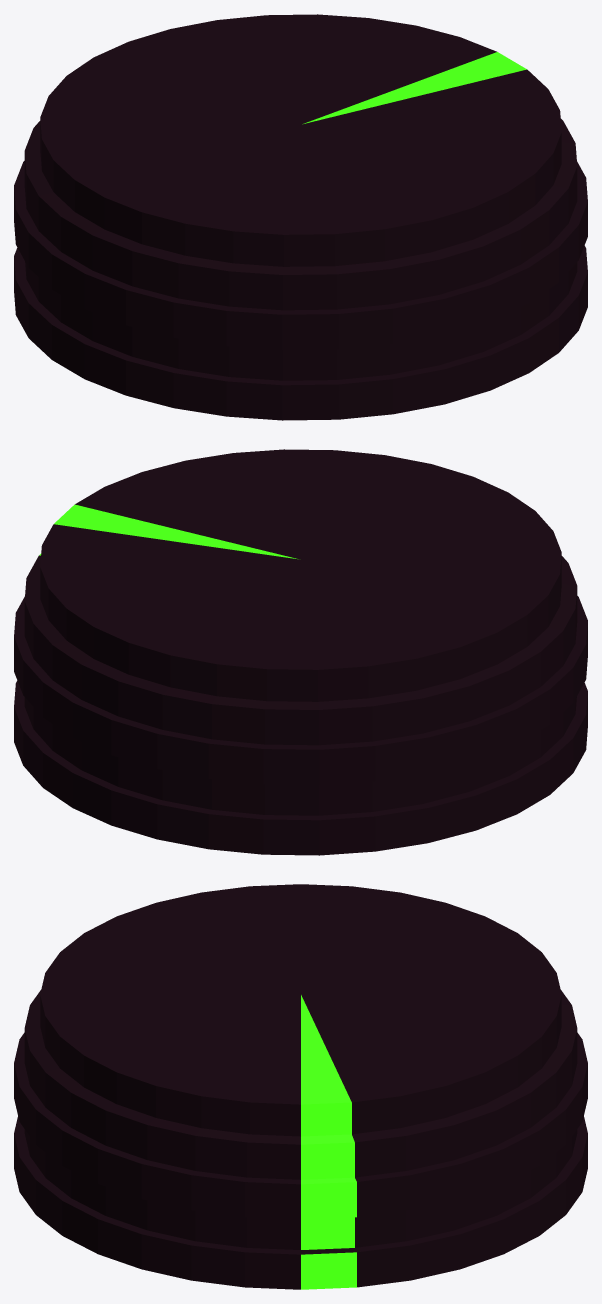
The model's file is PumpTurretTaban.fbx.
3 renders of one model, top to bottom at view 1: azimuth 30°, elevation 25°; view 2: azimuth 150°, elevation 25°; view 3: azimuth 270°, elevation 25°, orthographic.
Parts seen in each view (by area): view 1: Cylinder; view 2: Cylinder; view 3: Cylinder.
Part boxes in pixels (left/top/right/bottom): Cylinder: left=14, top=14, right=587, bottom=420; Cylinder: left=14, top=449, right=587, bottom=855; Cylinder: left=14, top=884, right=587, bottom=1289.
Bounding box in the file's own units: 349 × 349 × 117.
